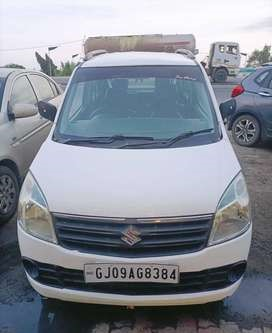GJ09AG8384: (84, 263, 179, 283)
